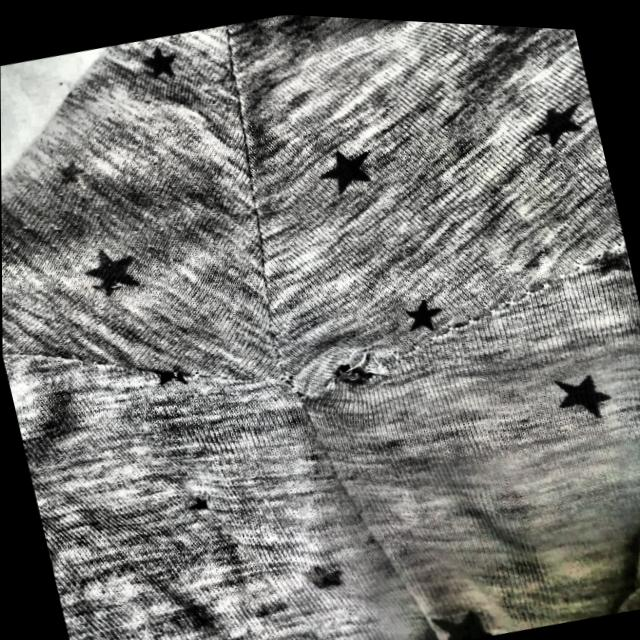Stitch: (278, 313, 416, 425)
